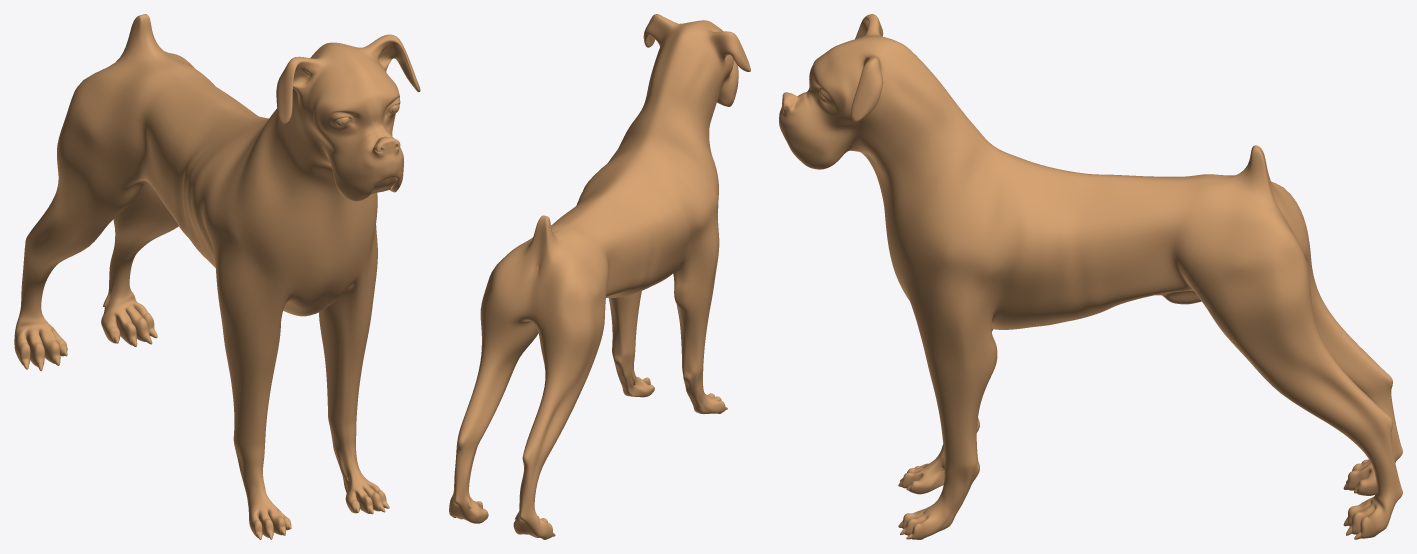
The model's file is Boxer.fbx.
3 renders of one model, left to right at view 1: azimuth 30°, elevation 25°; view 2: azimuth 150°, elevation 25°; view 3: azimuth 270°, elevation 25°, orthographic. The views are drawn at different scales.
Parts seen in each view (by area): view 1: Cube.001; view 2: Cube.001; view 3: Cube.001.
Boxes of the visible parts, box(x1,y1,x2,y2) form: Cube.001: box(14, 14, 420, 539); Cube.001: box(449, 14, 750, 539); Cube.001: box(779, 14, 1402, 539).
Bounding box in the file's own units: 33.75 × 103 × 123.
